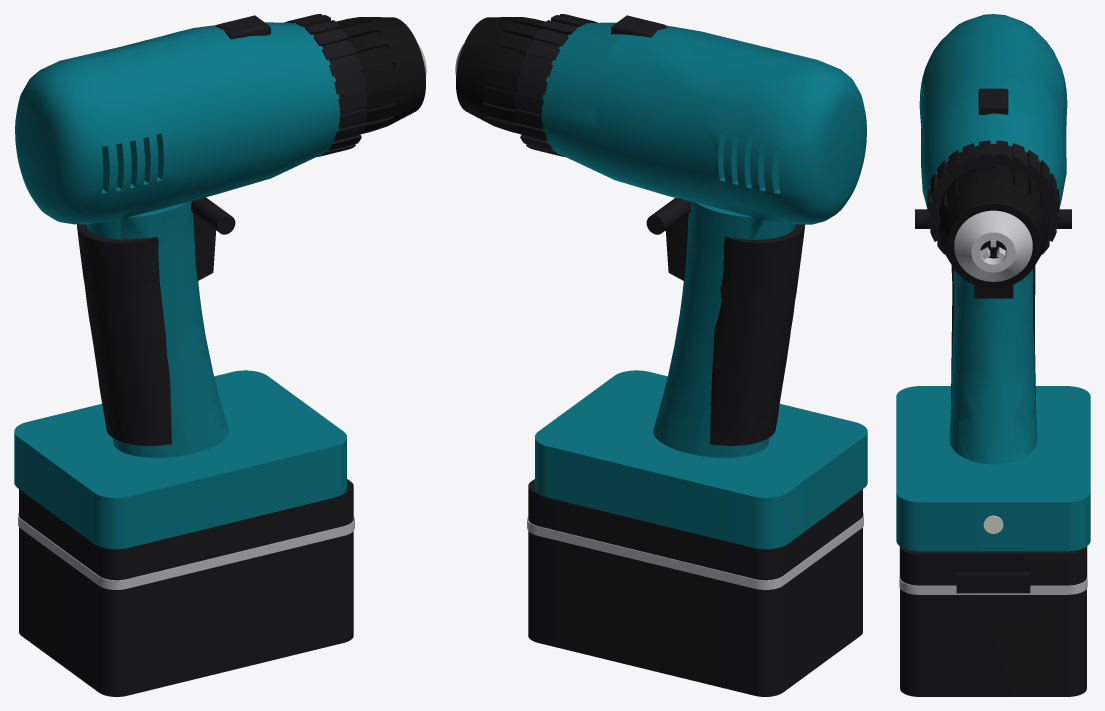
File: drill.glb
3 renders of one model, left to right at view 1: azimuth 30°, elevation 25°; view 2: azimuth 150°, elevation 25°; view 3: azimuth 270°, elevation 25°, orthographic. The views are drawn at different scales.
Visible parts, largest first — view 1: drill_teal_body, drill_black_plastic, drill_rubber, drill_silver_label; view 2: drill_teal_body, drill_black_plastic, drill_rubber, drill_silver_label; view 3: drill_teal_body, drill_black_plastic, drill_rubber, drill_steel, drill_silver_label.
Part boxes in pixels (box(x1,y1,x2,y2)): drill_teal_body: box(14, 22, 346, 549); drill_black_plastic: box(19, 14, 367, 696); drill_rubber: box(336, 17, 425, 133); drill_silver_label: box(18, 512, 354, 589); drill_teal_body: box(535, 22, 867, 549); drill_black_plastic: box(514, 14, 862, 696); drill_rubber: box(456, 17, 545, 133); drill_silver_label: box(527, 512, 863, 589); drill_teal_body: box(896, 14, 1090, 551); drill_black_plastic: box(900, 88, 1086, 696); drill_rubber: box(938, 165, 1048, 288); drill_steel: box(954, 210, 1032, 281); drill_silver_label: box(899, 546, 1087, 594).
Size of the model in its own units: 0.169 by 0.2551 by 0.079.
